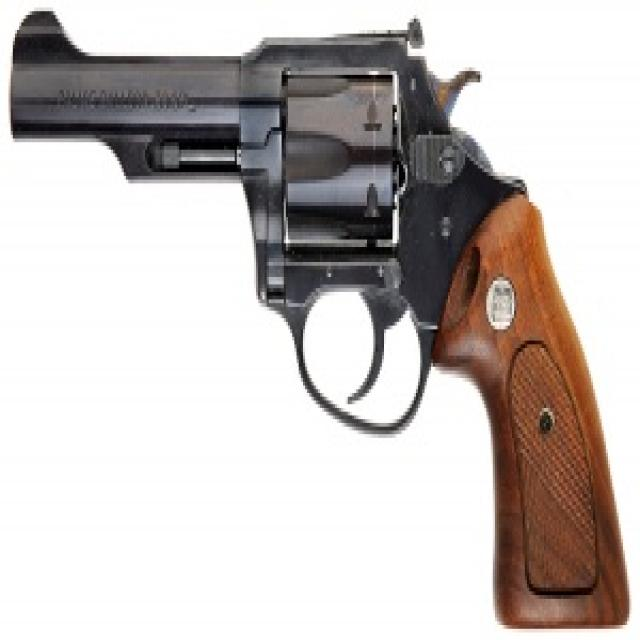Gun: (12, 33, 622, 640)
